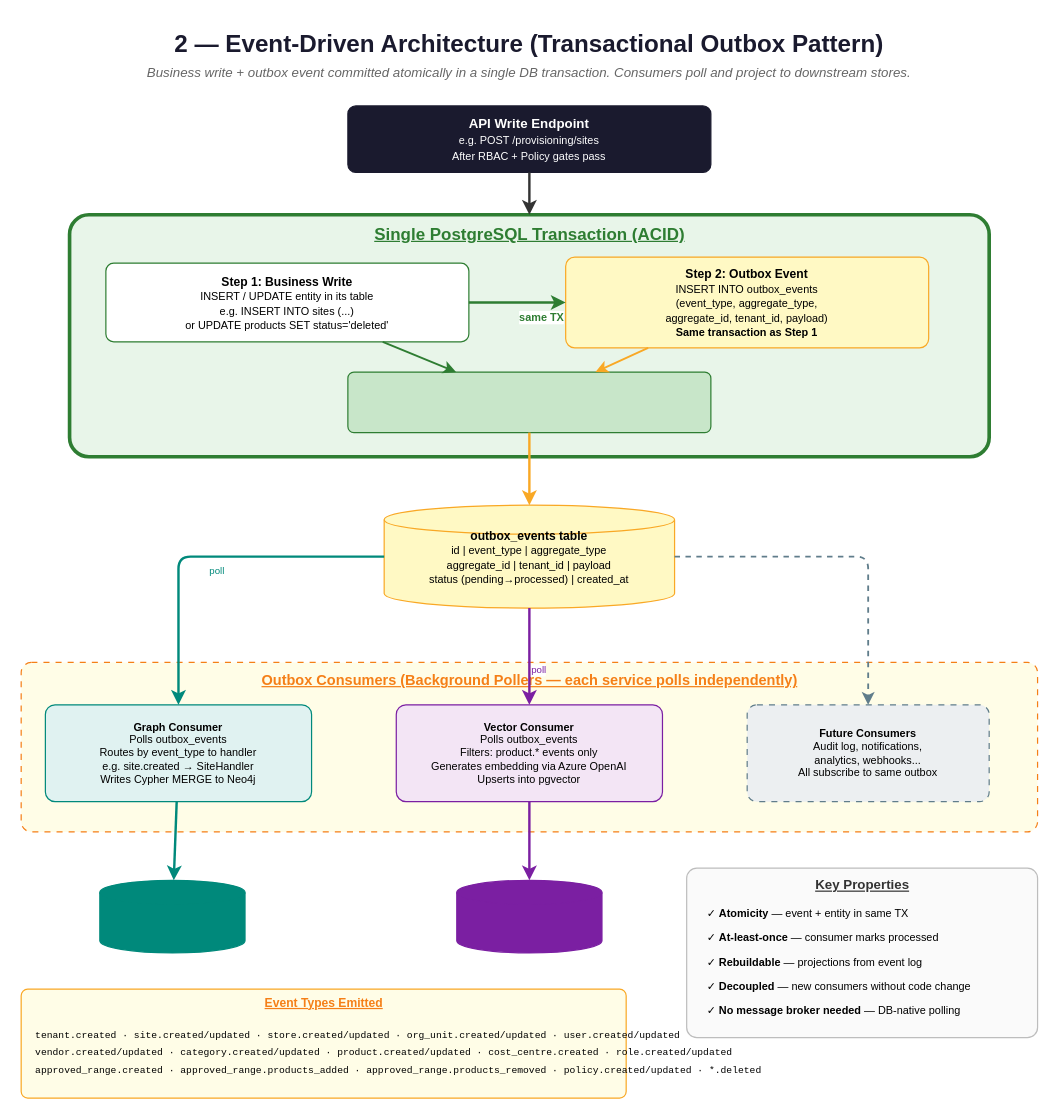
This 1059x1119 diagram has some shape labels left out. The centre of each missing label's shape, as x and y in pixels:
"db.commit() Both entity + event are durable or neither is (atomicity)" goes at pixel 529 402.
"Neo4j Graph Topology" goes at pixel 172 916.
"pgvector Embeddings" goes at pixel 529 916.
